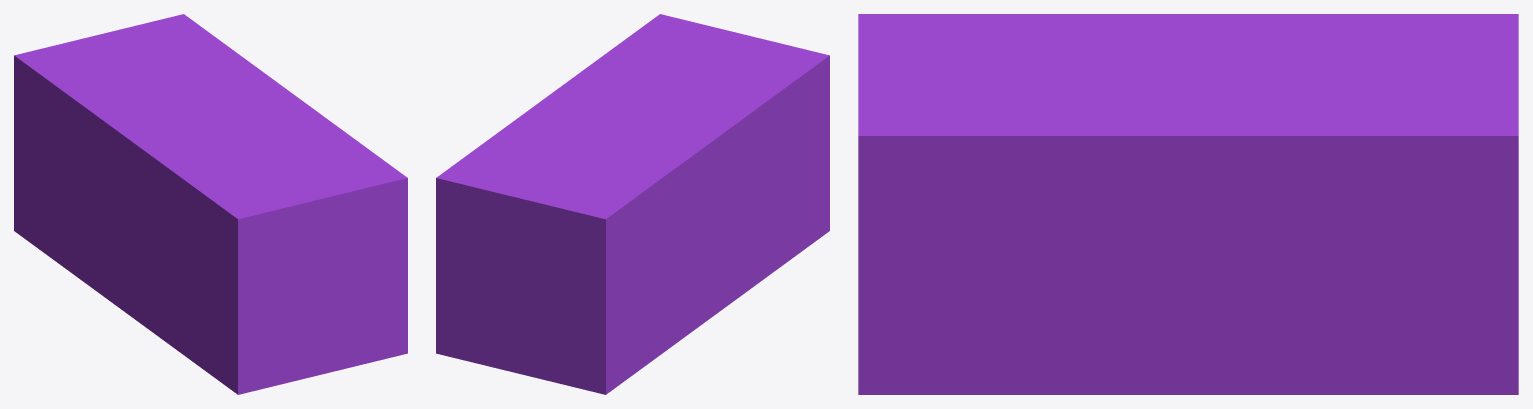
Rendered from ExhibitGlass_1_chunks.fbx.
The picture shows the model from 3 angles, left to right: view 1: azimuth 30°, elevation 25°; view 2: azimuth 150°, elevation 25°; view 3: azimuth 270°, elevation 25°; orthographic projection. The views are drawn at different scales.
Parts seen in each view (by area): view 1: ExhibitGlass_1_0, ExhibitGlass_1_2, ExhibitGlass_1_1, ExhibitGlass_1_6, ExhibitGlass_1_3; view 2: ExhibitGlass_1_1, ExhibitGlass_1_2, ExhibitGlass_1_0, ExhibitGlass_1_6, ExhibitGlass_1_3; view 3: ExhibitGlass_1_2, ExhibitGlass_1_1, ExhibitGlass_1_6, ExhibitGlass_1_4, ExhibitGlass_1_3, ExhibitGlass_1_5, ExhibitGlass_1_0.
Part boxes in pixels (left/top/right/bottom): ExhibitGlass_1_0: left=117, top=193, right=407, bottom=394; ExhibitGlass_1_2: left=65, top=68, right=394, bottom=242; ExhibitGlass_1_1: left=14, top=14, right=202, bottom=306; ExhibitGlass_1_6: left=194, top=28, right=339, bottom=137; ExhibitGlass_1_3: left=318, top=128, right=407, bottom=224; ExhibitGlass_1_1: left=436, top=147, right=717, bottom=394; ExhibitGlass_1_2: left=541, top=17, right=829, bottom=232; ExhibitGlass_1_0: left=709, top=79, right=829, bottom=318; ExhibitGlass_1_6: left=455, top=63, right=622, bottom=164; ExhibitGlass_1_3: left=593, top=14, right=672, bottom=66; ExhibitGlass_1_2: left=858, top=14, right=1368, bottom=126; ExhibitGlass_1_1: left=1330, top=14, right=1518, bottom=394; ExhibitGlass_1_6: left=1046, top=102, right=1463, bottom=242; ExhibitGlass_1_4: left=1025, top=260, right=1399, bottom=394; ExhibitGlass_1_3: left=858, top=117, right=1077, bottom=353; ExhibitGlass_1_5: left=1070, top=172, right=1408, bottom=294; ExhibitGlass_1_0: left=858, top=206, right=1070, bottom=394.
Size of the model in its own units: 270 by 267 by 618.
